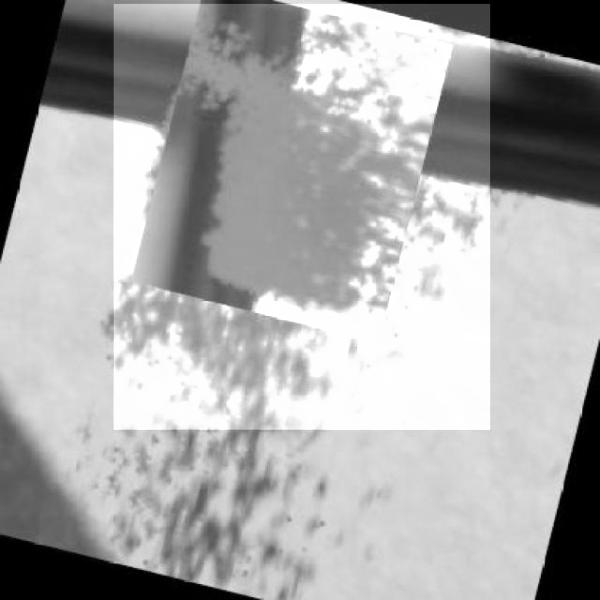gas: (114, 4, 490, 430)
